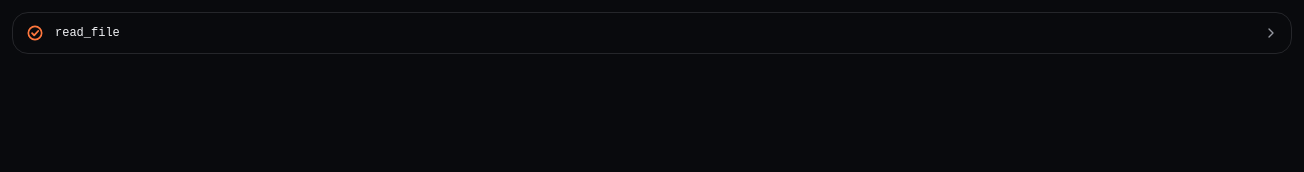
Test: AIToolCall › stays closed until clicked, then shows arguments and result
This screenshot has width=1304, height=172.
Expected: the text "42 lines" is not shown
Click the button: (87, 33) [13,13,1291,53]
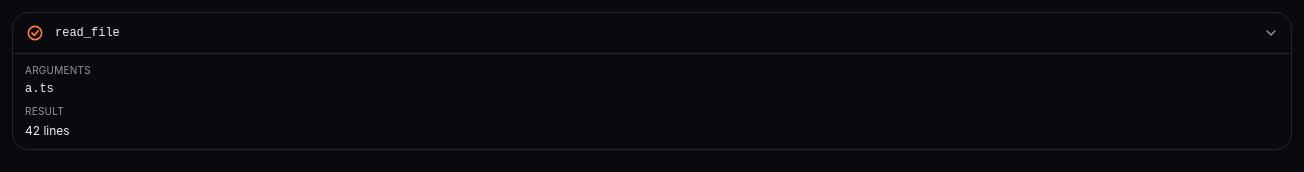
Now the button is expanded, box [13,13,1291,53]
Now the text "42 lines" is shown, box [25,123,70,138]
Now the text "a.ts" is shown, box [25,82,54,96]
